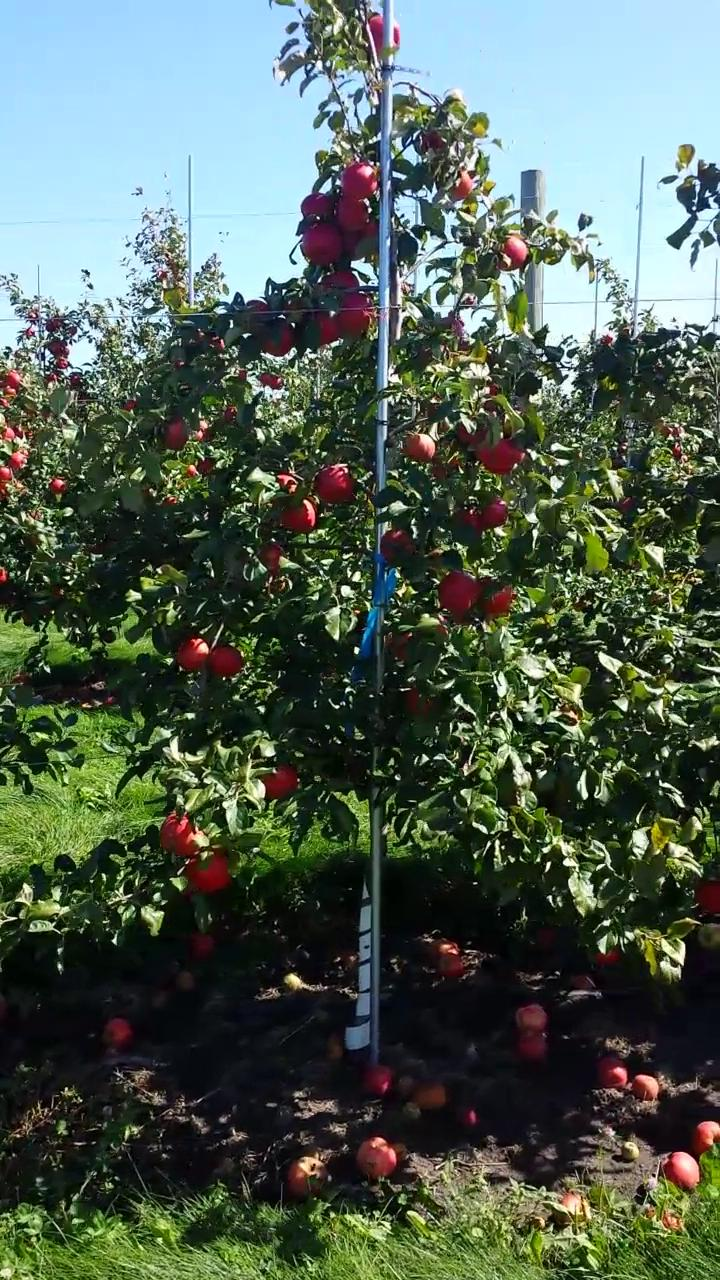Apple: (440, 570, 477, 624), (159, 810, 202, 856), (337, 217, 381, 260), (270, 495, 317, 535), (477, 436, 525, 475), (477, 577, 516, 621), (185, 852, 230, 890), (302, 222, 340, 266), (257, 765, 299, 799), (314, 464, 351, 501), (333, 295, 371, 331), (380, 527, 415, 566), (368, 15, 402, 54), (173, 636, 211, 670), (343, 162, 378, 197), (336, 195, 369, 230), (263, 323, 295, 357), (208, 644, 240, 677), (478, 498, 511, 528), (401, 434, 435, 463), (300, 194, 333, 221), (385, 630, 412, 661), (505, 236, 530, 269), (316, 315, 344, 344), (405, 684, 433, 713), (163, 421, 193, 448), (696, 880, 719, 912), (320, 272, 360, 290), (449, 170, 472, 199), (263, 545, 284, 572), (422, 131, 447, 153), (457, 425, 485, 444), (596, 949, 618, 971), (275, 474, 295, 493), (433, 612, 450, 634), (460, 509, 479, 527), (558, 707, 580, 722), (244, 299, 267, 313), (433, 463, 447, 482), (471, 746, 486, 762)
